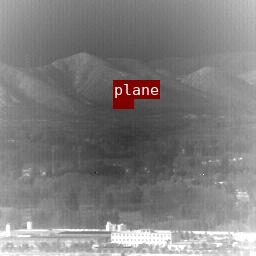plane: (113, 99, 133, 108)
